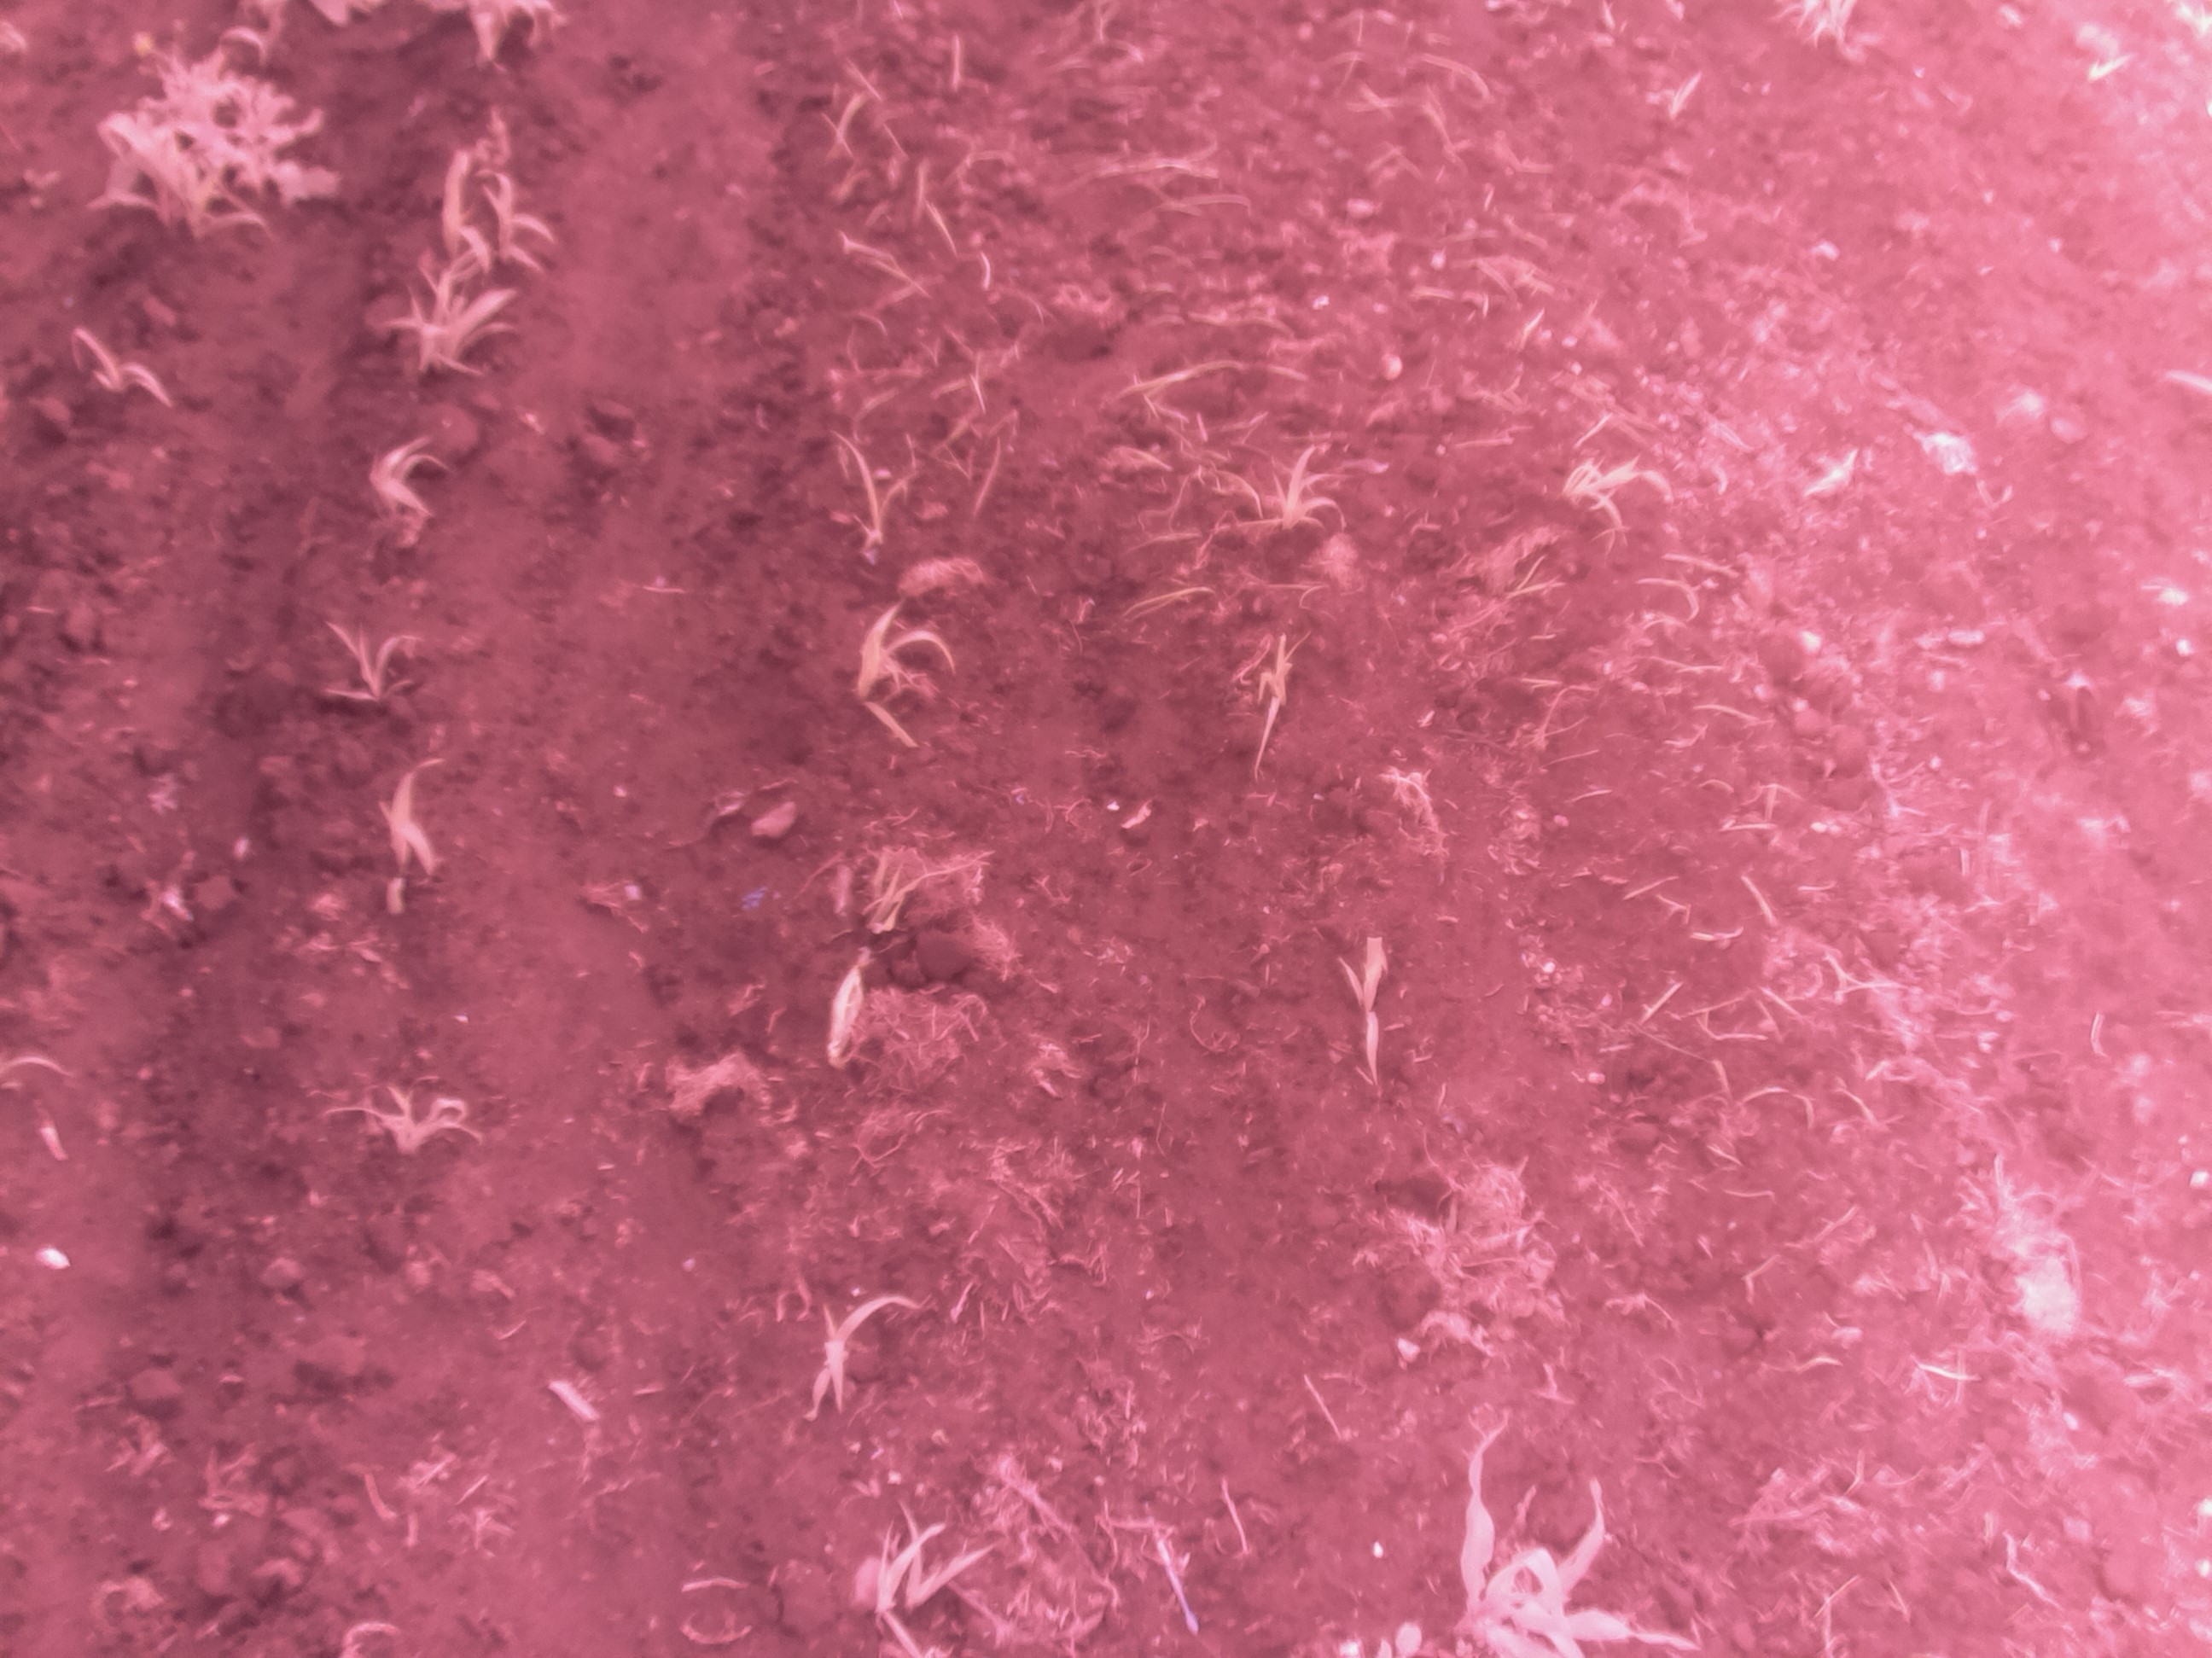Maiz: (1399, 1412, 1691, 1653), (96, 87, 202, 259), (388, 256, 517, 397), (792, 1282, 913, 1428), (155, 99, 260, 259), (1536, 427, 1677, 536), (822, 610, 967, 712), (319, 1071, 486, 1160), (895, 1472, 981, 1632), (54, 317, 178, 427), (813, 428, 904, 576), (331, 613, 435, 730), (409, 145, 491, 291), (482, 143, 542, 317), (368, 754, 448, 881), (1264, 439, 1352, 547), (355, 428, 441, 529), (1339, 935, 1393, 1094), (869, 1503, 935, 1627), (820, 958, 873, 1085), (1254, 632, 1298, 777), (1646, 57, 1710, 132), (1804, 453, 1862, 519)
